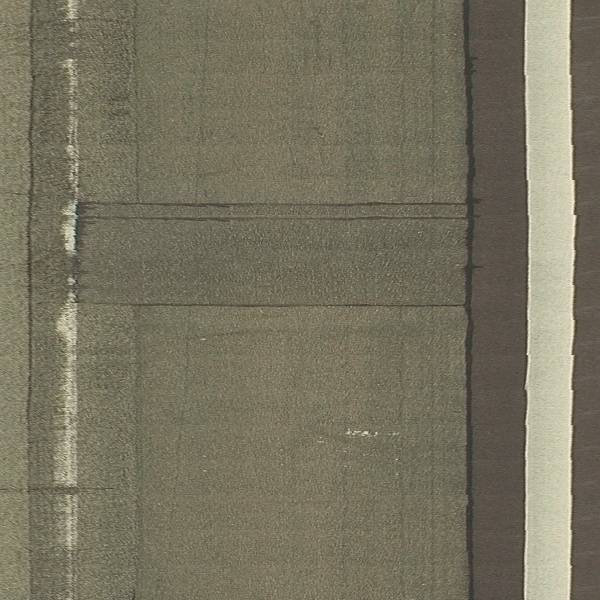road_damage: (38, 189, 495, 321)
